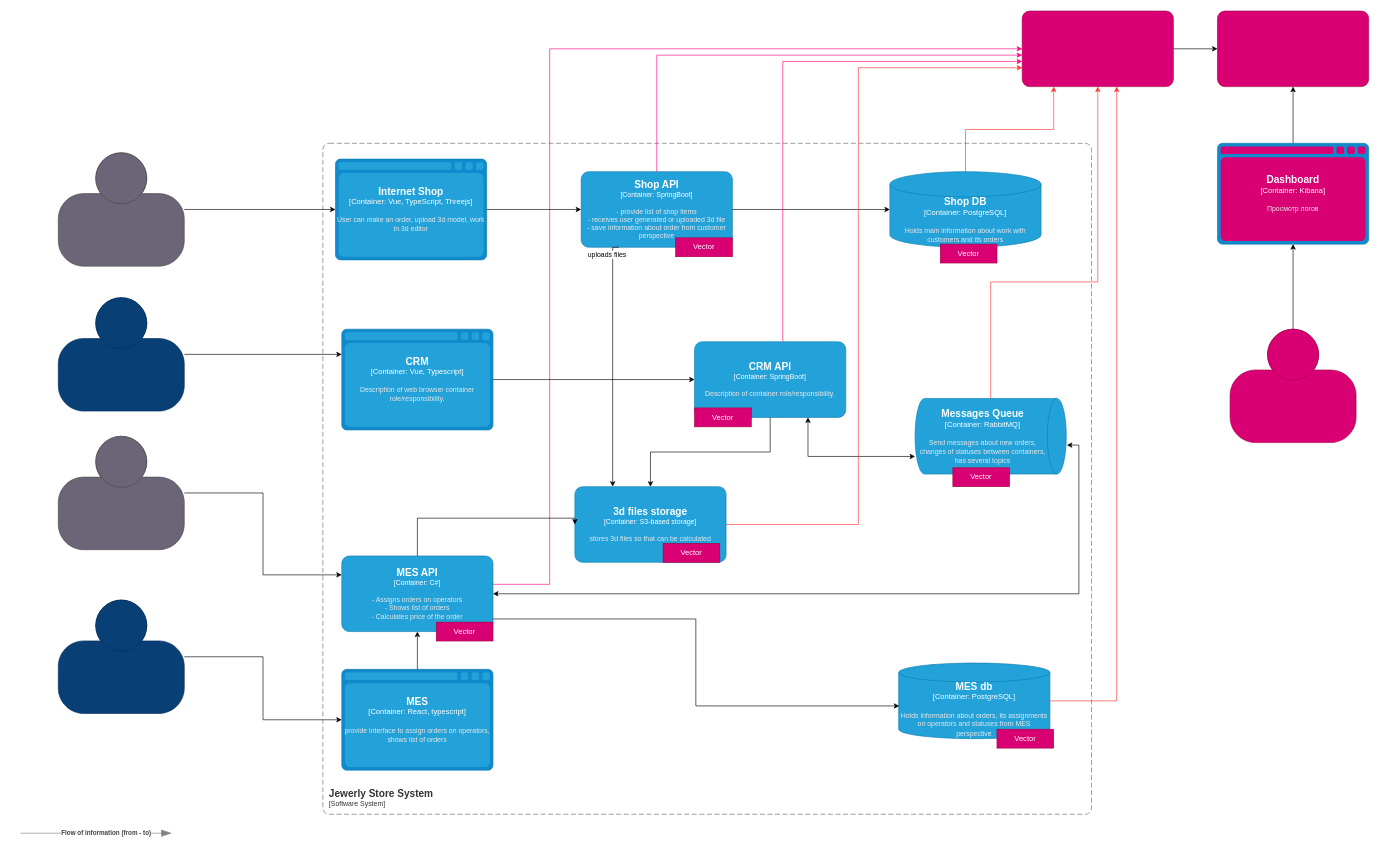
Some shapes in this 1380 by 854 pixel diagram are drawn without their labels. Here are the shapes that lost their labels. From the top down, the centre of each, then its label:
At pixel 1097 48: "Collector [Container: Vector] Сбор логов".
At pixel 1293 48: "Database [Container: OpenSearch] Хранение логов".
At pixel 121 209: "Customer [Person] Description of external person.".
At pixel 121 354: "Seller [Person] Operates with order, confirms manufacturing for the user".
At pixel 1292 386: "DevOps [Person] Инженер".
At pixel 121 493: "API user [Person] Description of external person.".
At pixel 121 656: "Operator [Person] Takes order in work, manufactures jewerly".
